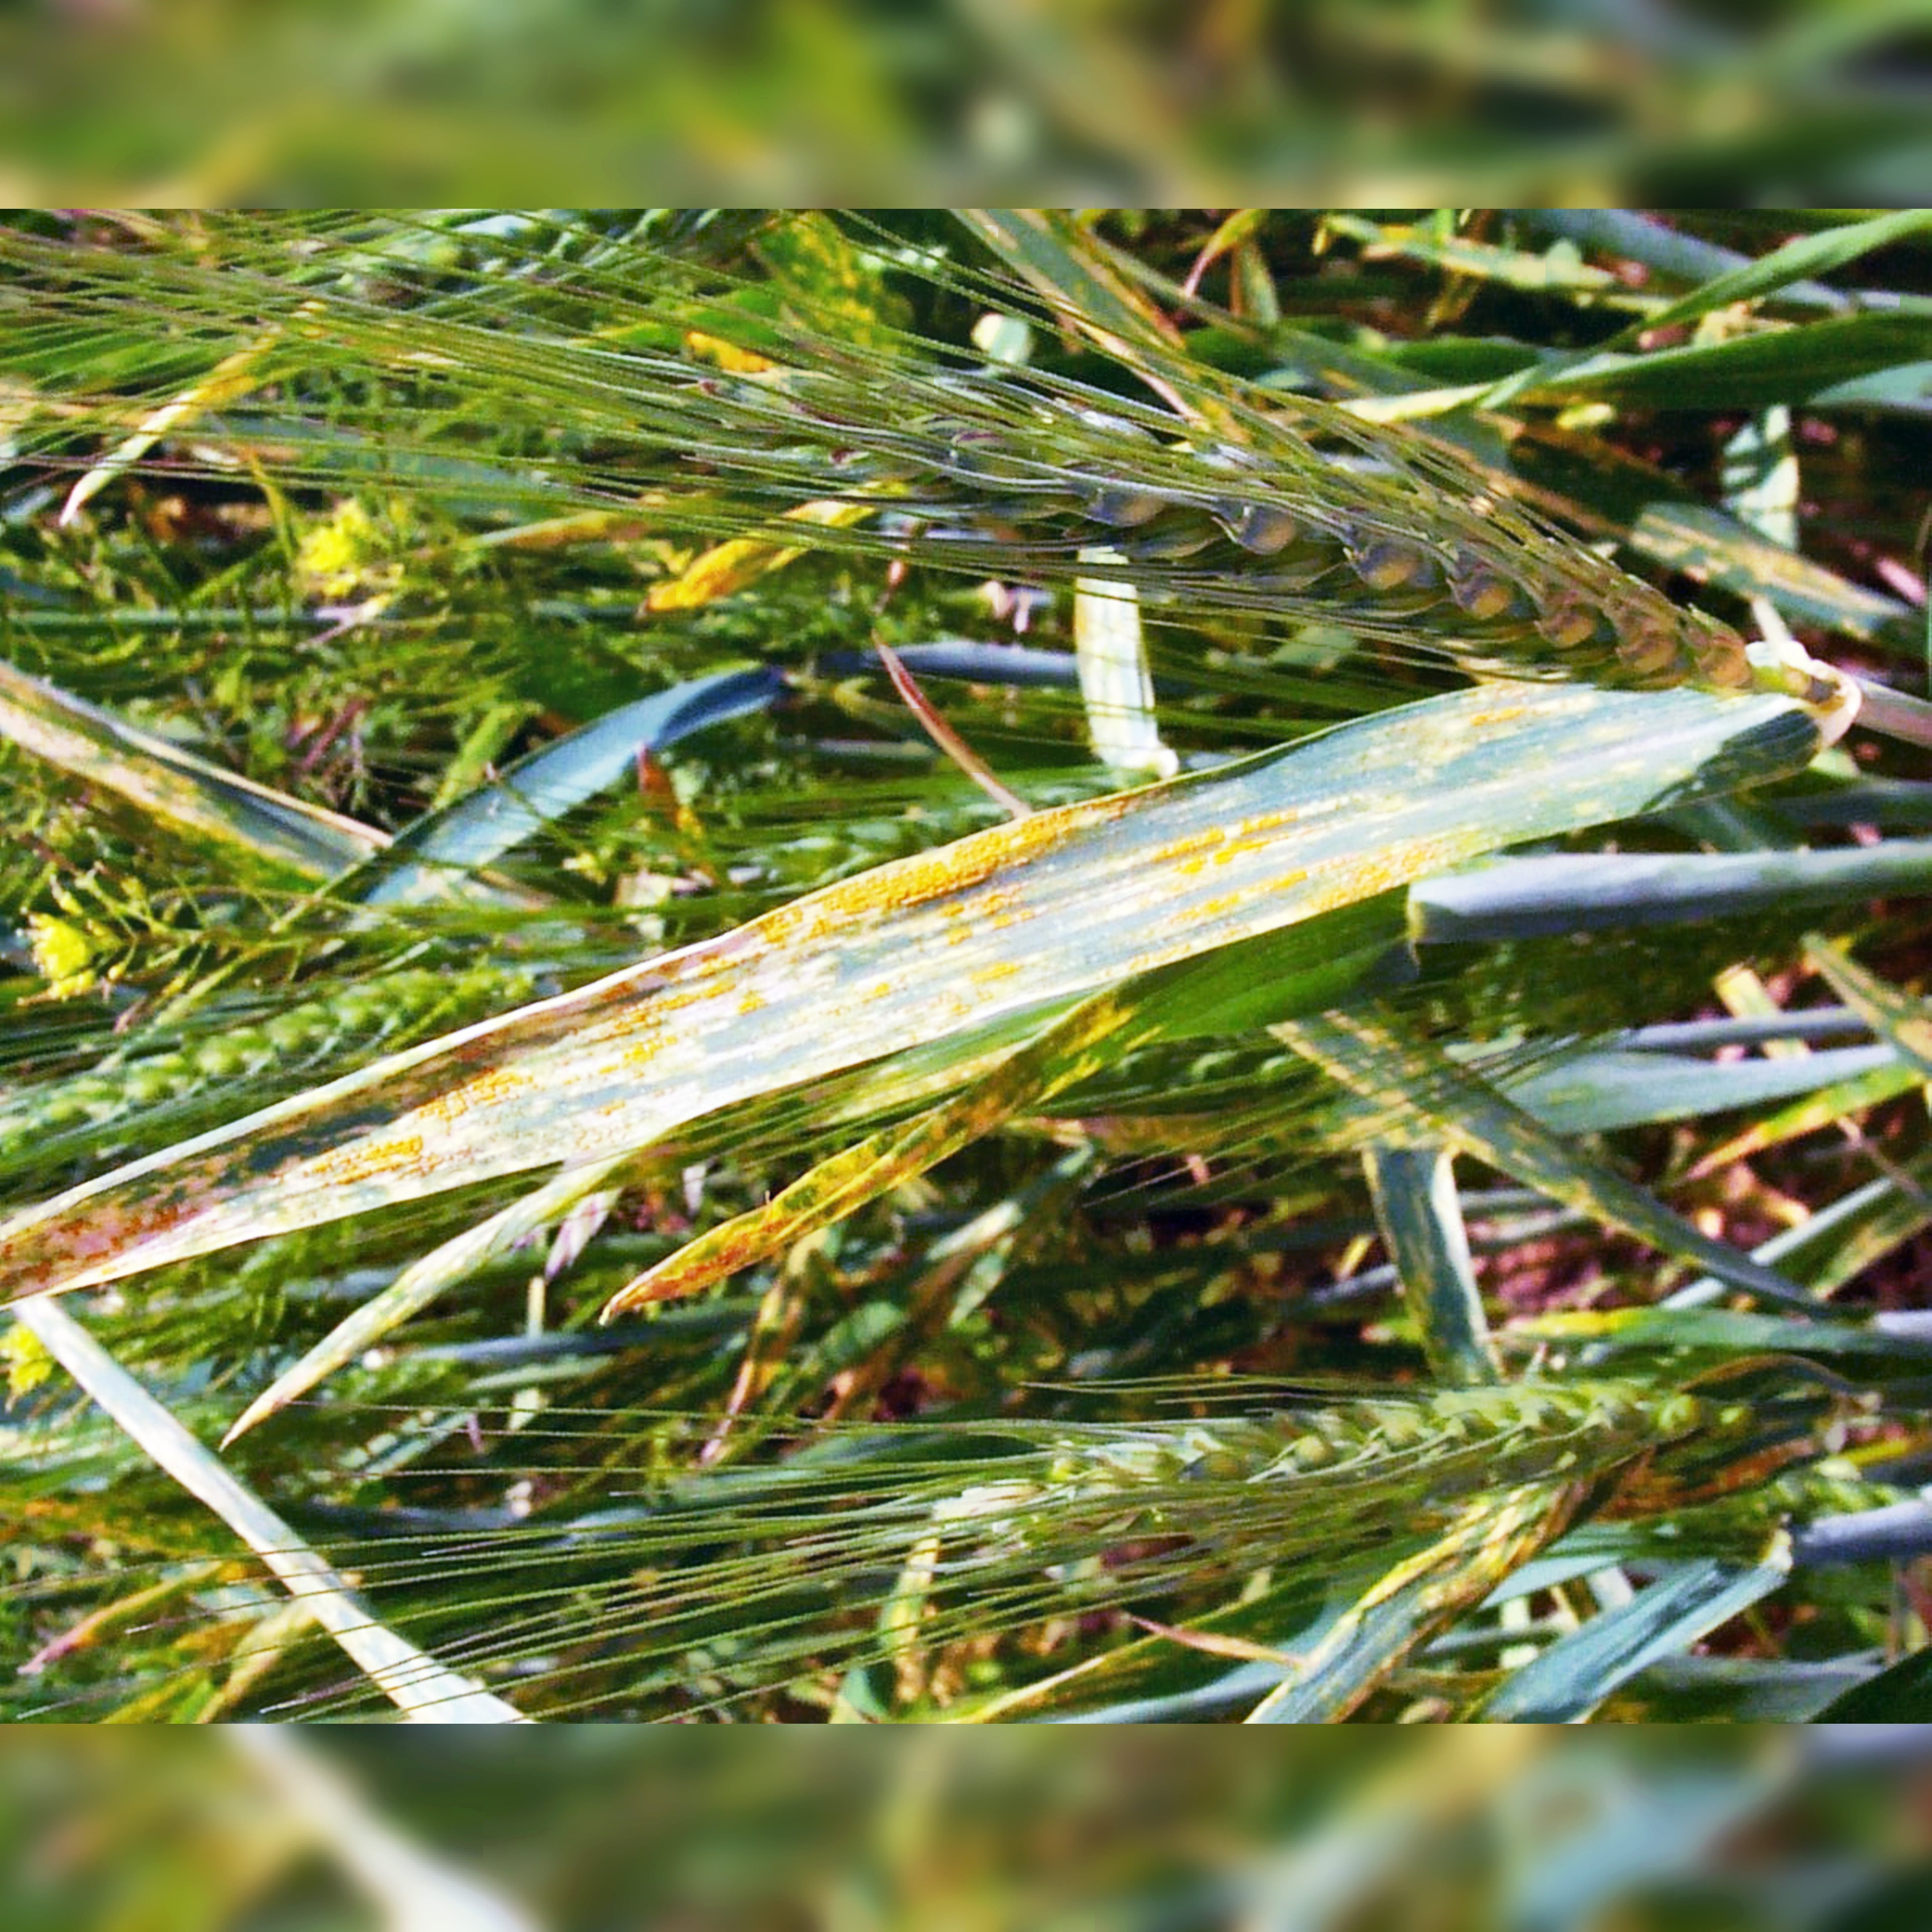Leaf Rust: (364, 755, 1499, 1173)
